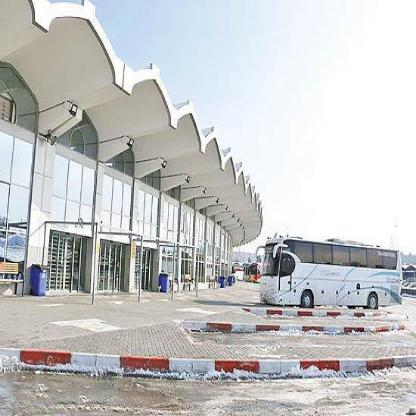Bus: (258, 230, 402, 311), (241, 266, 258, 284)
